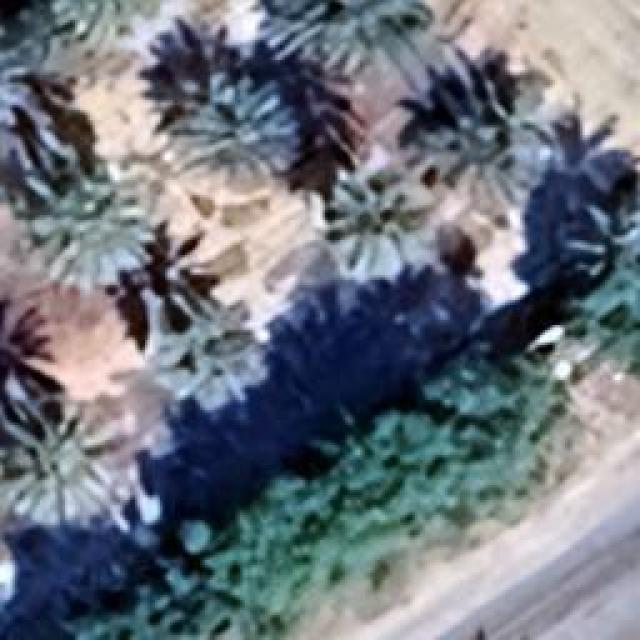PalmTree: (109, 25, 484, 128), (0, 390, 135, 535), (170, 72, 300, 190), (22, 172, 152, 290), (317, 0, 464, 102), (330, 150, 438, 280), (0, 8, 80, 182), (142, 314, 270, 404), (552, 190, 638, 288), (0, 289, 50, 405)
